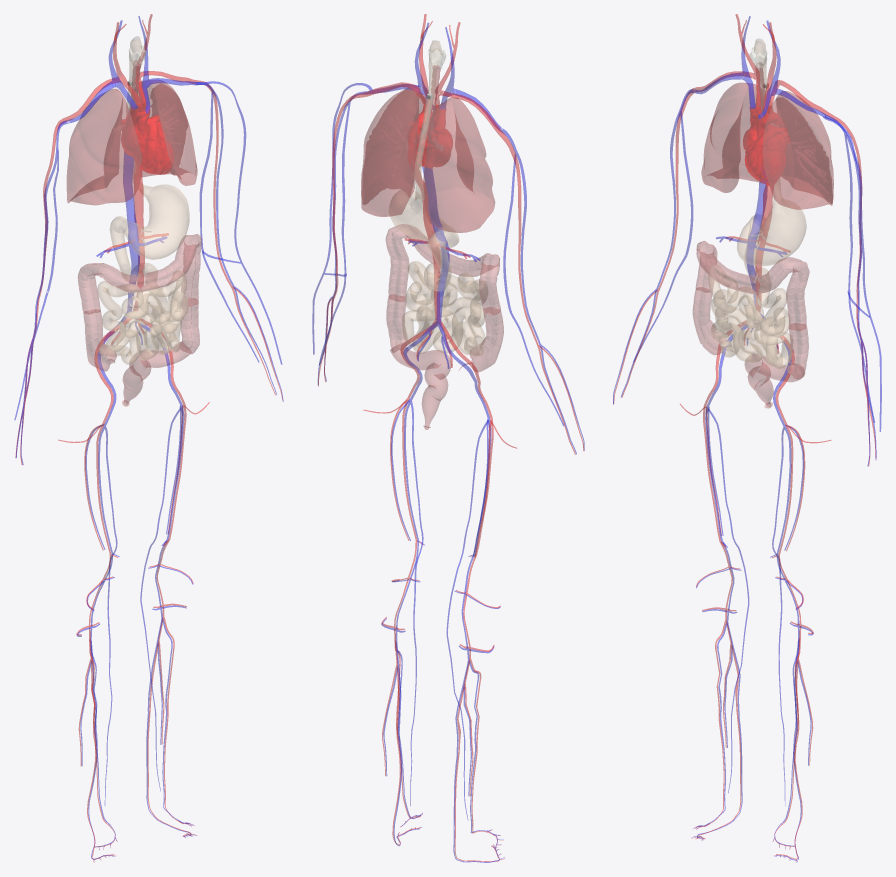
Rendered from Sistema Circulatorio,Digestivo y Respiratorio.glb.
3 views of the same model, side by side, from view 1: azimuth 30°, elevation 25°; view 2: azimuth 150°, elevation 25°; view 3: azimuth 330°, elevation 25° (orthographic).
Parts seen in each view (by area): view 1: Sistemas; view 2: Sistemas; view 3: Sistemas.
Boxes of the visible parts, x1,y1,x2,y2 form: Sistemas: (14,14,283,862); Sistemas: (312,14,584,862); Sistemas: (613,14,881,862).
Size of the model in its own units: 145 by 432 by 45.17.
